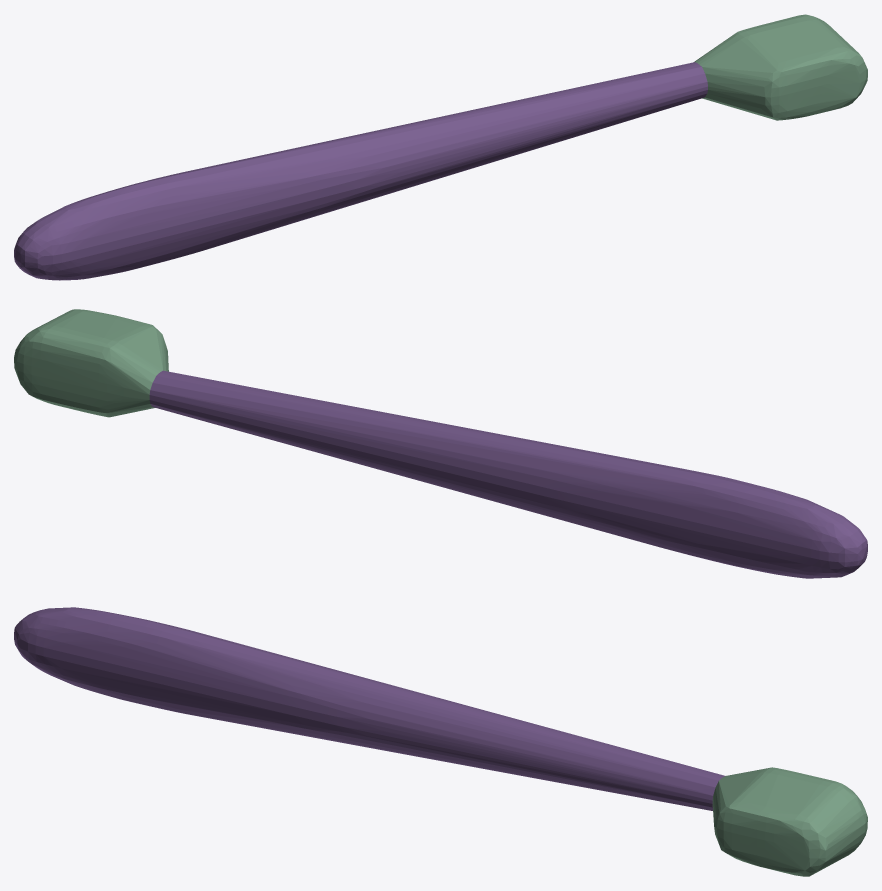
File: coacd_collision.obj
3 views of the same model, one above another, from view 1: azimuth 30°, elevation 25°; view 2: azimuth 150°, elevation 25°; view 3: azimuth 330°, elevation 25° (orthographic).
Parts seen in each view (by area): view 1: geometry_1, geometry_0; view 2: geometry_1, geometry_0; view 3: geometry_1, geometry_0.
Boxes of the visible parts, x1,y1,x2,y2 form: geometry_1: (14,62,707,280); geometry_0: (694,14,867,120); geometry_1: (149,370,867,578); geometry_0: (14,309,168,417); geometry_1: (14,607,724,810); geometry_0: (712,767,867,876).
Bounding box in the file's own units: 182 × 17.11 × 19.66.
